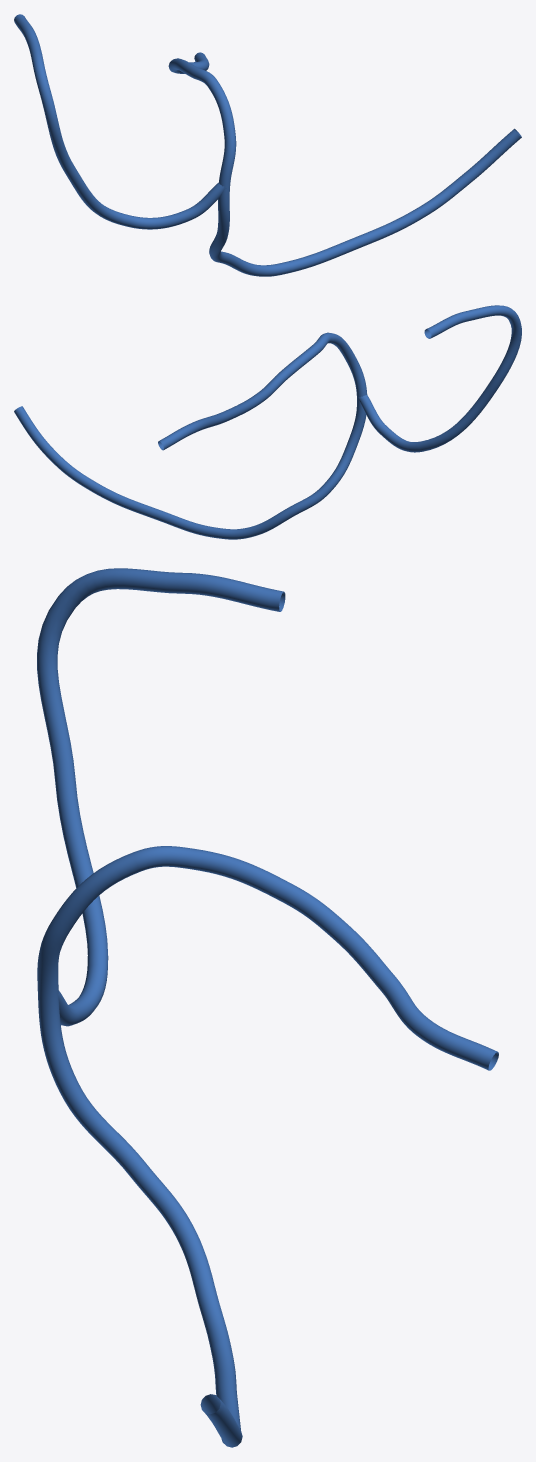
The picture shows the model from 3 angles, top to bottom: view 1: azimuth 30°, elevation 25°; view 2: azimuth 150°, elevation 25°; view 3: azimuth 270°, elevation 25°; orthographic projection. The views are drawn at different scales.
Parts seen in each view (by area): view 1: 胃网膜右静脉; view 2: 胃网膜右静脉; view 3: 胃网膜右静脉.
Boxes of the visible parts, x1,y1,x2,y2 form: 胃网膜右静脉: (14,14,521,276); 胃网膜右静脉: (14,305,521,539); 胃网膜右静脉: (37,568,498,1447).
Size of the model in its own units: 0.1515 by 0.0864 by 0.065.
